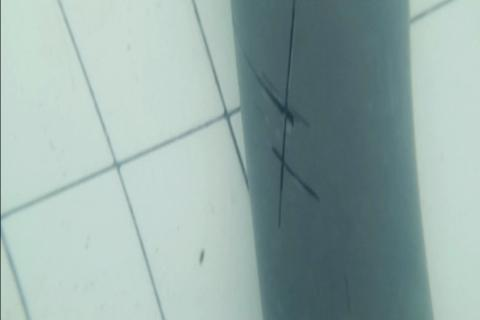keretakan: (248, 0, 321, 231)
